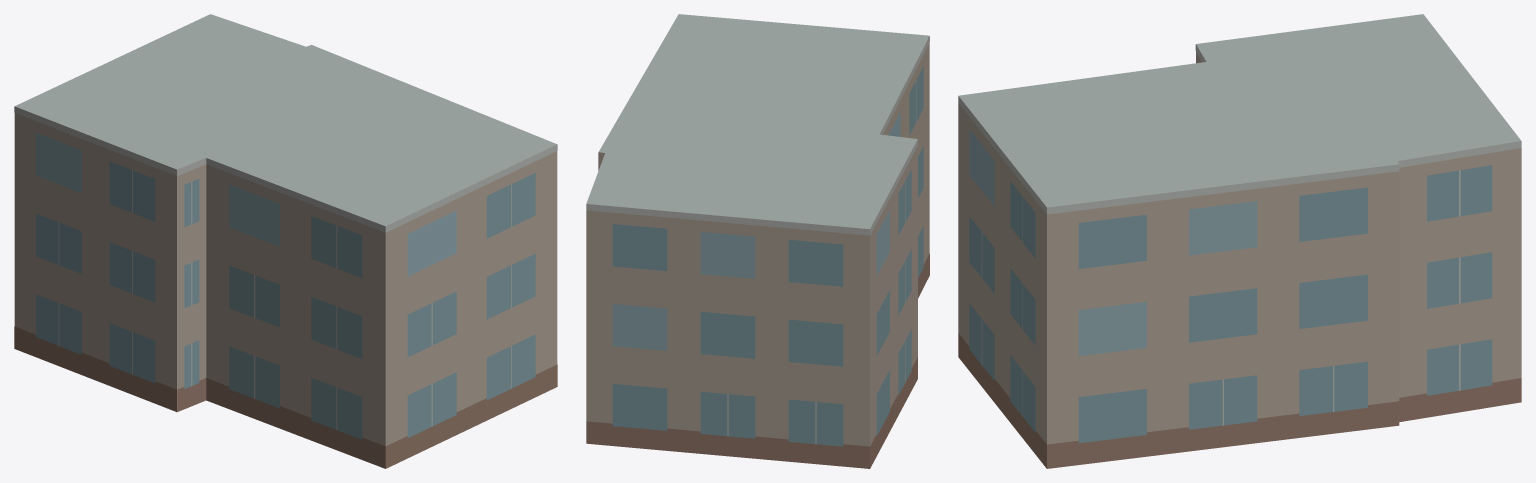
Rendered from survey-upis-32938382.glb.
The picture shows the model from 3 angles, left to right: view 1: azimuth 30°, elevation 25°; view 2: azimuth 150°, elevation 25°; view 3: azimuth 270°, elevation 25°; orthographic projection. The views are drawn at different scales.
Visible parts, largest first — view 1: survey-upis-32938382.tmp; view 2: survey-upis-32938382.tmp; view 3: survey-upis-32938382.tmp.
Boxes of the visible parts, x1,y1,x2,y2 form: survey-upis-32938382.tmp: (14, 14, 557, 468); survey-upis-32938382.tmp: (586, 14, 929, 468); survey-upis-32938382.tmp: (958, 14, 1521, 468).
Bounding box in the file's own units: 14.55 × 9.15 × 17.89.
